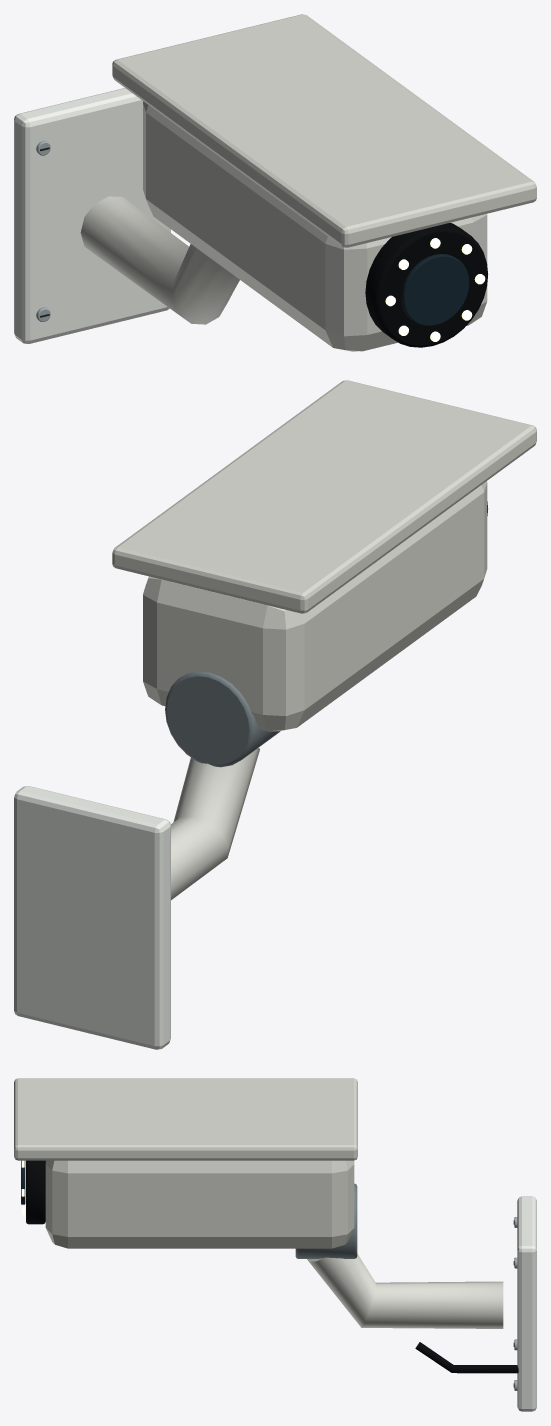
Rendered from OAA_CCTV_Bullet.fbx.
The picture shows the model from 3 angles, top to bottom: view 1: azimuth 30°, elevation 25°; view 2: azimuth 150°, elevation 25°; view 3: azimuth 270°, elevation 25°; orthographic projection. The views are drawn at different scales.
Parts seen in each view (by area): view 1: Body; view 2: Body; view 3: Body.
Boxes of the visible parts, x1=… form: Body: x1=14, y1=14, x2=536, y2=351; Body: x1=14, y1=380, x2=536, y2=1049; Body: x1=14, y1=1078, x2=536, y2=1411.
Size of the model in its own units: 0.118 by 0.216 by 0.3725.
